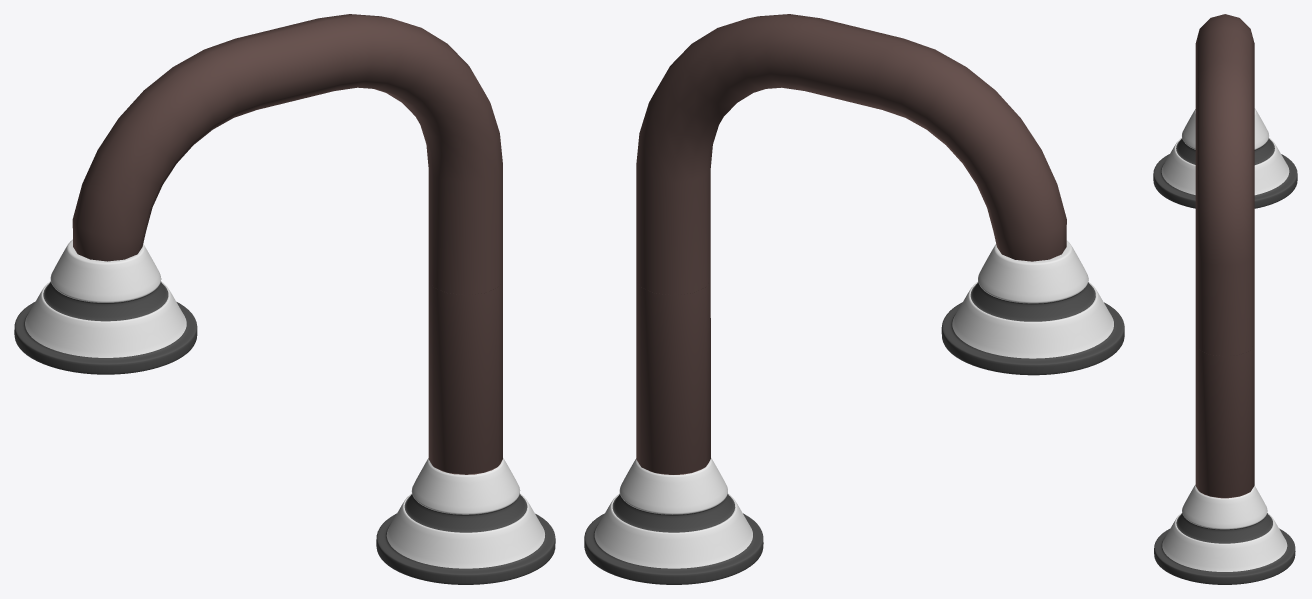
File: M_Pipeline.fbx
3 views of the same model, side by side, from view 1: azimuth 30°, elevation 25°; view 2: azimuth 150°, elevation 25°; view 3: azimuth 270°, elevation 25° (orthographic). The views are drawn at different scales.
Visible parts, largest first — view 1: Cube.008, Cone, Cube.005; view 2: Cube.008, Cone, Cube.005; view 3: Cube.008, Cone, Cube.005.
Boxes of the visible parts, x1,y1,x2,y2 form: Cube.008: [72, 14, 502, 295]; Cone: [376, 280, 555, 584]; Cube.005: [14, 239, 197, 374]; Cube.008: [636, 14, 1066, 295]; Cone: [584, 280, 763, 584]; Cube.005: [941, 240, 1124, 375]; Cube.008: [1195, 14, 1254, 356]; Cone: [1154, 344, 1295, 584]; Cube.005: [1153, 108, 1297, 208].
Bounding box in the file's own units: 7.19 × 7.46 × 2.21.
